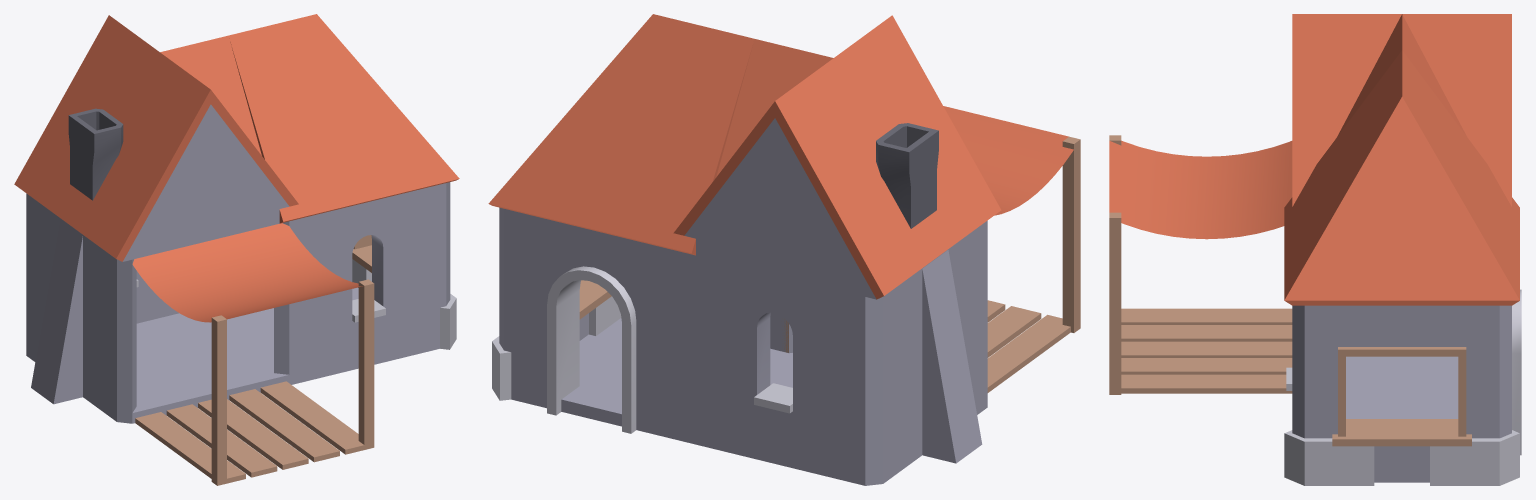
File: Workshop house.fbx
3 views of the same model, side by side, from view 1: azimuth 30°, elevation 25°; view 2: azimuth 150°, elevation 25°; view 3: azimuth 270°, elevation 25° (orthographic). The views are drawn at different scales.
Parts seen in each view (by area): view 1: roof_split_0, roof_end_5, wall_windowRound_13, roof_canvas_9, planks_floor_12, wall_straight_16, floor_square_6, wall_edge_14, detail_chimneyTop_8, floor_square_7, structure_pole_11, structure_pole_10 (+3 smaller); view 2: roof_split_0, roof_end_5, wall_windowRound_15, wall_doorwayRound_4, wall_straight_16, wall_edge_14, roof_canvas_9, floor_square_7, detail_chimneyTop_8, planks_floor_12, floor_square_6, structure_pole_10 (+3 smaller); view 3: roof_end_5, wall_windowWoodWide%_3, roof_split_0, roof_canvas_9, planks_floor_12, wall_borderDoorway_1, floor_square_7, floor_square_6, structure_pole_11, wall_doorwayRound_4.
Boxes of the visible parts, x1,y1,x2,y2 form: roof_split_0: (14, 15, 298, 261); roof_end_5: (228, 14, 459, 223); wall_windowRound_13: (274, 183, 446, 384); roof_canvas_9: (132, 223, 362, 322); planks_floor_12: (135, 381, 364, 483); wall_straight_16: (26, 193, 136, 423); floor_square_6: (26, 313, 289, 423); wall_edge_14: (31, 219, 82, 404); detail_chimneyTop_8: (68, 108, 123, 200); floor_square_7: (205, 287, 439, 384); structure_pole_11: (358, 279, 374, 449); structure_pole_10: (211, 315, 226, 485); roof_split_0: (673, 15, 1001, 299); roof_end_5: (488, 14, 754, 255); wall_windowRound_15: (684, 253, 883, 485); wall_doorwayRound_4: (504, 209, 684, 441); wall_straight_16: (883, 220, 987, 483); wall_edge_14: (922, 250, 982, 463); roof_canvas_9: (943, 106, 1073, 215); floor_square_7: (511, 318, 792, 440); detail_chimneyTop_8: (876, 123, 938, 228); planks_floor_12: (987, 300, 1070, 392); floor_square_6: (684, 353, 986, 485); structure_pole_10: (1062, 136, 1080, 332); roof_end_5: (1284, 50, 1519, 305); wall_windowWoodWide%_3: (1292, 305, 1511, 482); roof_split_0: (1292, 14, 1511, 206); roof_canvas_9: (1109, 140, 1292, 239); planks_floor_12: (1121, 308, 1292, 393); wall_borderDoorway_1: (1284, 430, 1519, 485); floor_square_7: (1346, 378, 1458, 482); floor_square_6: (1346, 356, 1458, 388); structure_pole_11: (1109, 212, 1121, 394); wall_doorwayRound_4: (1512, 289, 1521, 455).
Size of the model in its own units: 23.72 by 19.19 by 21.12.
